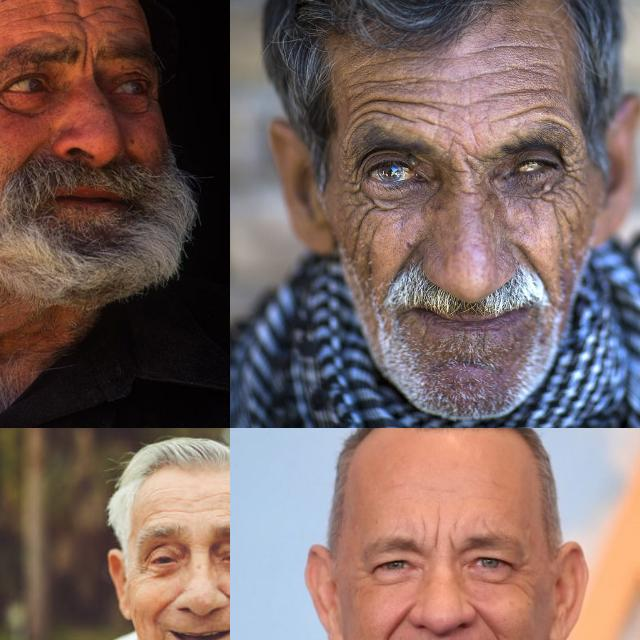crows_feet: (337, 166, 371, 216), (560, 152, 590, 205), (510, 560, 536, 590), (136, 556, 148, 574)
forehead: (19, 0, 122, 24), (350, 90, 408, 122), (472, 39, 546, 63), (502, 102, 560, 126), (494, 80, 552, 102), (415, 95, 445, 132), (434, 72, 484, 90), (353, 54, 405, 70), (146, 504, 184, 514)
frown_line: (454, 156, 484, 194), (79, 32, 93, 82), (415, 519, 429, 549), (446, 531, 460, 555), (430, 525, 440, 555)
gummy_smile: (394, 238, 420, 278), (380, 607, 409, 640), (515, 239, 543, 273), (473, 607, 501, 640), (149, 594, 177, 612), (221, 587, 230, 612)
masseter: (548, 206, 580, 240), (348, 224, 374, 260)
sad_smile: (151, 629, 168, 640)
